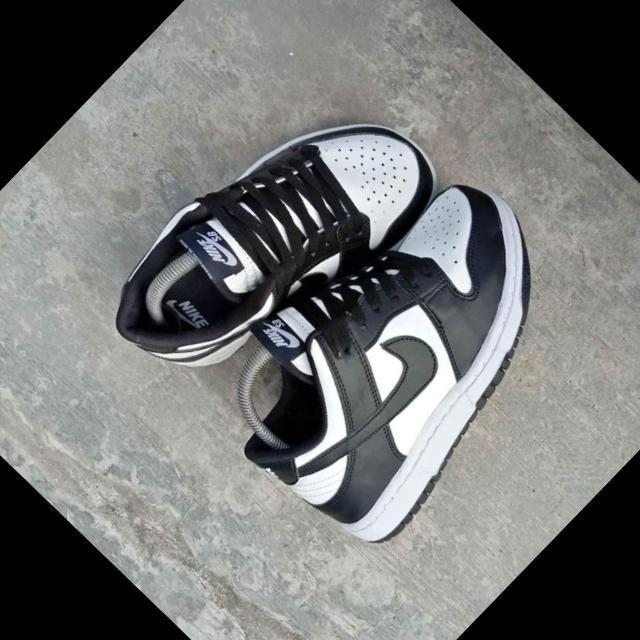nike fake jordan 1: (180, 131, 625, 578), (79, 51, 458, 434)
